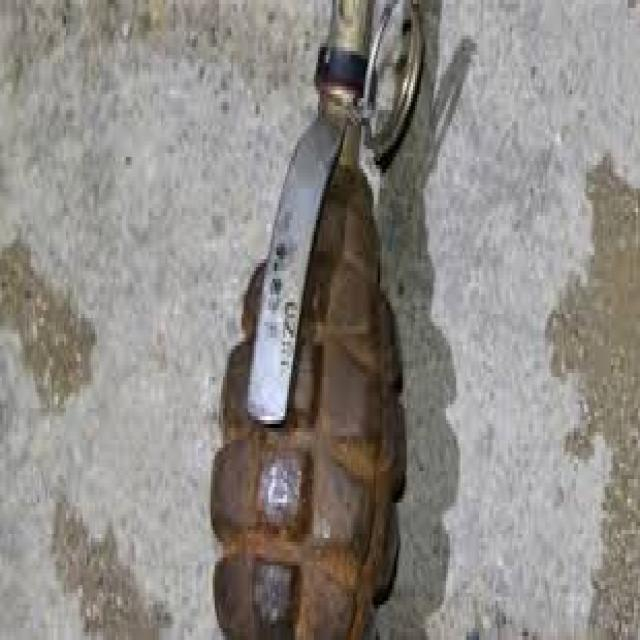grenade: (207, 1, 436, 640)
